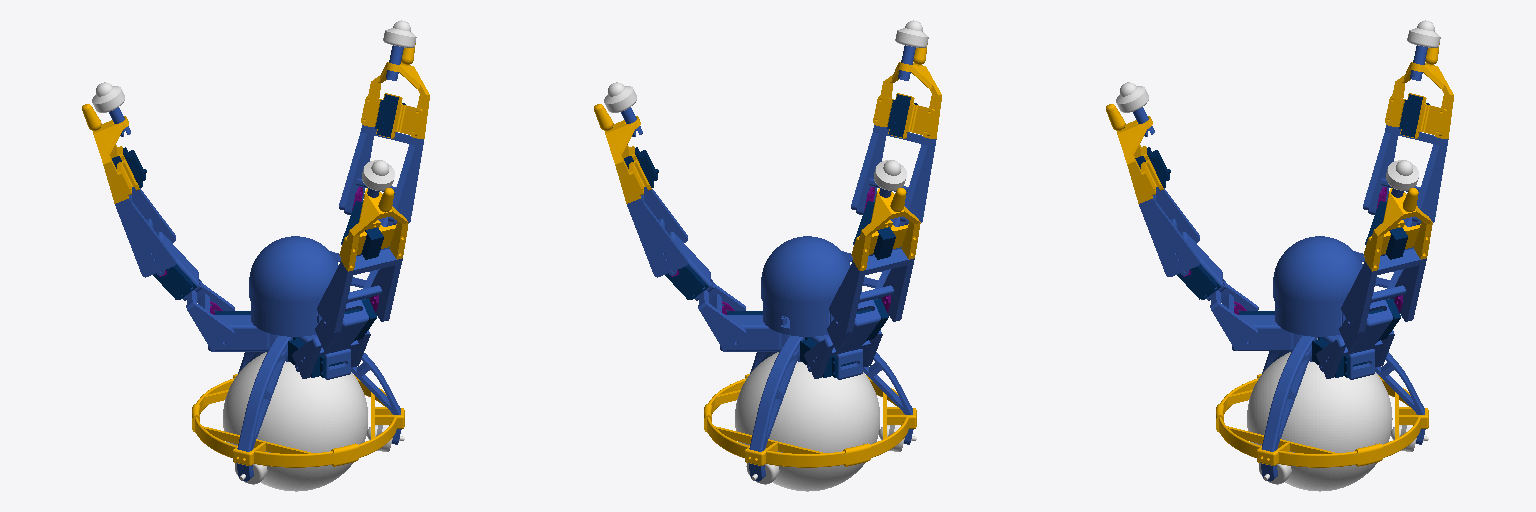
--- Render facts (derived) ---
Views: 3 orthographic renders of the robot side by side, from view 1: azimuth 30°, elevation 25°; view 2: azimuth 150°, elevation 25°; view 3: azimuth 270°, elevation 25°.
Model skootr with 63 links and 62 joints (6 revolute, 3 continuous, 3 prismatic, 49 fixed, 1 floating), rooted at ball_root, posed every joint at zero.
Links seen in each view (by area): view 1: hemisphere_top, lid, leg2_link2_p1, leg3_link2_p1, leg1_link2_p1, third_ring, first_triconstraint, hemisphere_bottom, leg2_link2_p2, leg3_link1, third_servo_mount, electronics_platform (+14 smaller); view 2: hemisphere_top, lid, leg3_link2_p1, leg1_link2_p1, leg2_link2_p1, second_ring, third_triconstraint, hemisphere_bottom, leg3_link2_p2, leg1_link1, first_servo_mount, electronics_platform (+14 smaller); view 3: hemisphere_top, lid, leg1_link2_p1, leg2_link2_p1, leg3_link2_p1, first_ring, second_triconstraint, hemisphere_bottom, leg1_link2_p2, leg2_link1, electronics_platform, leg2_link2_p2 (+14 smaller).
Link boxes in pixels (x1,y1,x2,y2): hemisphere_top: (223, 352, 367, 448); lid: (249, 236, 338, 315); leg2_link2_p1: (317, 249, 402, 333); leg3_link2_p1: (115, 187, 175, 277); leg1_link2_p1: (339, 125, 423, 224); third_ring: (195, 417, 333, 467); first_triconstraint: (237, 335, 292, 481); hemisphere_bottom: (223, 423, 367, 491); leg2_link2_p2: (341, 188, 408, 271); leg3_link1: (186, 284, 234, 350); third_servo_mount: (208, 315, 277, 351); electronics_platform: (251, 302, 321, 336); hemisphere_top: (735, 352, 879, 448); lid: (761, 236, 850, 315); leg3_link2_p1: (829, 249, 914, 333); leg1_link2_p1: (627, 187, 687, 277); leg2_link2_p1: (851, 125, 936, 224); second_ring: (707, 417, 845, 467); third_triconstraint: (749, 335, 804, 481); hemisphere_bottom: (735, 423, 879, 491); leg3_link2_p2: (853, 188, 920, 270); leg1_link1: (698, 284, 745, 350); first_servo_mount: (720, 315, 789, 351); electronics_platform: (763, 302, 833, 336); hemisphere_top: (1247, 352, 1392, 448); lid: (1273, 236, 1362, 315); leg1_link2_p1: (1341, 248, 1426, 333); leg2_link2_p1: (1139, 187, 1199, 276); leg3_link2_p1: (1363, 125, 1448, 224); first_ring: (1219, 417, 1357, 467); second_triconstraint: (1261, 335, 1317, 481); hemisphere_bottom: (1247, 419, 1392, 491); leg1_link2_p2: (1365, 188, 1432, 271); leg2_link1: (1210, 284, 1258, 350); electronics_platform: (1275, 302, 1345, 336); leg2_link2_p2: (1117, 116, 1152, 203).
Bounding box of the posed robot: 0.511 × 0.4789 × 0.6004 m (x, y, z).
62 mesh visuals loaded from 21 distinct referenced files (21 binary STL).

URDF robot description (skootr):
<?xml version="1.0" ?>
<!-- =================================================================================== -->
<!-- |    This document was autogenerated by xacro from ./src/skootr_description/urdf/skootr.xacro | -->
<!-- |    EDITING THIS FILE BY HAND IS NOT RECOMMENDED                                 | -->
<!-- =================================================================================== -->
<robot name="skootr">
  <!-- Declare colors -->
  <material name="skootr_blue">
    <color rgba="0.231 0.380 0.706 1.0"/>
  </material>
  <material name="skootr_yellow">
    <color rgba="0.980 0.714 0.004 1.0"/>
  </material>
  <material name="skootr_silver">
    <color rgba="0.9176 0.9176 0.9176 1.0"/>
  </material>
  <material name="servo_blue">
    <color rgba="0.043 0.216 0.404 1.0"/>
  </material>
  <material name="horn_purple">
    <color rgba="0.490 0.086 0.557 1.0"/>
  </material>
  <link name="ball_root">
    <origin rpy="0.0 0.0 0.0" xyz="0.0 0.0 0.0"/>
    <inertial>
      <origin xyz="0.0 0.0 0.0" rpy="0.0 0.0 0.0"/>
      <mass value="0.00001"/>
      <inertia ixx="0.0" ixy="0.0" ixz="0.0" iyy="0.0" iyz="0.0" izz="0.0"/>
    </inertial>
    
  </link>
  <link name="ball_connector">
    <visual>
      <geometry>
        <mesh filename="meshes/frame/hemisphere_connector.stl" scale="0.001 0.001 0.001"/>
      </geometry>
    </visual>
    <collision>
      <geometry>
        <mesh filename="meshes/frame/hemisphere_connector.stl" scale="0.001 0.001 0.001"/>
      </geometry>
    </collision>
    <inertial>
      <origin rpy="0 0 0" xyz="0 0 0"/>
      <mass value="0.09480"/>
      <inertia ixx="2.64e-05" ixy="0" ixz="0" iyy="2.93e-05" iyz="0" izz="2.64e-05"/>
    </inertial>
  </link>
  <!-- joining ball_connector to dummy link -->
  <joint name="root_to_connector" type="floating">
    <origin rpy="1.5707963267948966 0 0" xyz="0 0 0.0194945"/>
    <parent link="ball_root"/>
    <child link="ball_connector"/>
    <!-- <axis xyz="1.0 1.0 1.0"/> -->
  </joint>
  <!-- top hemisphere -->
  <link name="hemisphere_top">
    <visual>
      <geometry>
        <mesh filename="meshes/frame/hemisphere.stl" scale="0.001 0.001 0.001"/>
      </geometry>
      <material name="skootr_silver"/>
    </visual>
    <collision>
      <geometry>
        <mesh filename="meshes/frame/hemisphere.stl" scale="0.001 0.001 0.001"/>
      </geometry>
    </collision>
    <inertial>
      <origin rpy="0 0 0" xyz="0 0.038176 0"/>
      <mass value="10.5179"/>
      <inertia ixx="0.0067228" ixy="0" ixz="0" iyy="0.0104325" iyz="0" izz="0.0067210"/>
    </inertial>
  </link>
  <link name="hemisphere_bottom">
    <visual>
      <geometry>
        <mesh filename="meshes/frame/hemisphere.stl" scale="0.001 0.001 0.001"/>
      </geometry>
      <material name="skootr_silver"/>
    </visual>
    <collision>
      <geometry>
        <mesh filename="meshes/frame/hemisphere.stl" scale="0.001 0.001 0.001"/>
      </geometry>
    </collision>
    <inertial>
      <origin rpy="0 0 0" xyz="0 0.038176 0"/>
      <mass value="10.5179"/>
      <inertia ixx="0.0067228" ixy="0" ixz="0" iyy="0.0104325" iyz="0" izz="0.0067210"/>
    </inertial>
  </link>
  <joint name="connector_to_top" type="fixed">
    <parent link="ball_connector"/>
    <child link="hemisphere_top"/>
    <origin rpy="0 0 0" xyz="0 -0.0195 0"/>
  </joint>
  <joint name="connector_to_bottom" type="fixed">
    <parent link="ball_connector"/>
    <child link="hemisphere_bottom"/>
    <origin rpy="3.14159265 0 0" xyz="0 -0.0195 0"/>
  </joint>
  <!-- ring constraint -->
  <link name="first_ring" type="fixed">
    <visual>
      <geometry>
        <mesh filename="meshes/frame/ringconstraint.stl" scale="0.001 0.001 0.001"/>
      </geometry>
      <material name="skootr_yellow"/>
    </visual>
    <collision>
      <geometry>
        <mesh filename="meshes/frame/ringconstraint.stl" scale="0.001 0.001 0.001"/>
      </geometry>
    </collision>
    <inertial>
      <origin rpy="0 0 0" xyz="0.09911 -0.05723 0.01130"/>
      <mass value="0.05080"/>
      <inertia ixx="1.62e-04" ixy="-8.22e-05" ixz="2.93e-07" iyy="6.64e-05" iyz="-2.93e-07" izz="2.25e-04"/>
    </inertial>
  </link>
  <link name="first_constraint_connector" type="fixed">
    <visual>
      <geometry>
        <mesh filename="meshes/frame/ringconstraint_connector.stl" scale="0.001 0.001 0.001"/>
      </geometry>
      <material name="skootr_yellow"/>
    </visual>
    <collision>
      <geometry>
        <mesh filename="meshes/frame/ringconstraint_connector.stl" scale="0.001 0.001 0.001"/>
      </geometry>
    </collision>
    <inertial>
      <origin rpy="0 0 0" xyz="0.1193 0.0678 0.0100"/>
      <mass value="0.00816"/>
      <!-- Converted from 0.018 lb to kg -->
      <inertia ixx="1.1663e-07" ixy="2.9155e-08" ixz="5.5703e-15" iyy="8.7475e-08" iyz="-6.9847e-15" izz="8.7475e-08"/>
    </inertial>
  </link>
  <link name="first_triconstraint" type="fixed">
    <visual>
      <geometry>
        <mesh filename="meshes/frame/triconstraint.stl" scale="0.001 0.001 0.001"/>
      </geometry>
      <material name="skootr_blue"/>
    </visual>
    <collision>
      <geometry>
        <mesh filename="meshes/frame/triconstraint.stl" scale="0.001 0.001 0.001"/>
      </geometry>
    </collision>
    <inertial>
      <origin rpy="0 0 0" xyz="-92.433 -4.332e-5 66.87"/>
      <mass value="0.06304"/>
      <!-- Converted from 0.139 lb to kg -->
      <inertia ixx="1.4480e-05" ixy="-7.4132e-10" ixz="-1.1539e-05" iyy="2.8523e-05" iyz="-8.5296e-10" izz="1.1518e-05"/>
    </inertial>
  </link>
  <link name="second_ring" type="fixed">
    <visual>
      <geometry>
        <mesh filename="meshes/frame/ringconstraint.stl" scale="0.001 0.001 0.001"/>
      </geometry>
      <material name="skootr_yellow"/>
    </visual>
    <collision>
      <geometry>
        <mesh filename="meshes/frame/ringconstraint.stl" scale="0.001 0.001 0.001"/>
      </geometry>
    </collision>
    <inertial>
      <origin rpy="0 0 0" xyz="0.09911 -0.05723 0.01130"/>
      <mass value="0.05080"/>
      <inertia ixx="1.62e-04" ixy="-8.22e-05" ixz="2.93e-07" iyy="6.64e-05" iyz="-2.93e-07" izz="2.25e-04"/>
    </inertial>
  </link>
  <link name="second_constraint_connector" type="fixed">
    <visual>
      <geometry>
        <mesh filename="meshes/frame/ringconstraint_connector.stl" scale="0.001 0.001 0.001"/>
      </geometry>
      <material name="skootr_yellow"/>
    </visual>
    <collision>
      <geometry>
        <mesh filename="meshes/frame/ringconstraint_connector.stl" scale="0.001 0.001 0.001"/>
      </geometry>
    </collision>
    <inertial>
      <origin rpy="0 0 0" xyz="0.1193 0.0678 0.0100"/>
      <mass value="0.00816"/>
      <!-- Converted from 0.018 lb to kg -->
      <inertia ixx="1.1663e-07" ixy="2.9155e-08" ixz="5.5703e-15" iyy="8.7475e-08" iyz="-6.9847e-15" izz="8.7475e-08"/>
    </inertial>
  </link>
  <link name="second_triconstraint" type="fixed">
    <visual>
      <geometry>
        <mesh filename="meshes/frame/triconstraint.stl" scale="0.001 0.001 0.001"/>
      </geometry>
      <material name="skootr_blue"/>
    </visual>
    <collision>
      <geometry>
        <mesh filename="meshes/frame/triconstraint.stl" scale="0.001 0.001 0.001"/>
      </geometry>
    </collision>
    <inertial>
      <origin rpy="0 0 0" xyz="-92.433 -4.332e-5 66.87"/>
      <mass value="0.06304"/>
      <!-- Converted from 0.139 lb to kg -->
      <inertia ixx="1.4480e-05" ixy="-7.4132e-10" ixz="-1.1539e-05" iyy="2.8523e-05" iyz="-8.5296e-10" izz="1.1518e-05"/>
    </inertial>
  </link>
  <link name="third_ring" type="fixed">
    <visual>
      <geometry>
        <mesh filename="meshes/frame/ringconstraint.stl" scale="0.001 0.001 0.001"/>
      </geometry>
      <material name="skootr_yellow"/>
    </visual>
    <collision>
      <geometry>
        <mesh filename="meshes/frame/ringconstraint.stl" scale="0.001 0.001 0.001"/>
      </geometry>
    </collision>
    <inertial>
      <origin rpy="0 0 0" xyz="0.09911 -0.05723 0.01130"/>
      <mass value="0.05080"/>
      <inertia ixx="1.62e-04" ixy="-8.22e-05" ixz="2.93e-07" iyy="6.64e-05" iyz="-2.93e-07" izz="2.25e-04"/>
    </inertial>
  </link>
  <link name="third_constraint_connector" type="fixed">
    <visual>
      <geometry>
        <mesh filename="meshes/frame/ringconstraint_connector.stl" scale="0.001 0.001 0.001"/>
      </geometry>
      <material name="skootr_yellow"/>
    </visual>
    <collision>
      <geometry>
        <mesh filename="meshes/frame/ringconstraint_connector.stl" scale="0.001 0.001 0.001"/>
      </geometry>
    </collision>
    <inertial>
      <origin rpy="0 0 0" xyz="0.1193 0.0678 0.0100"/>
      <mass value="0.00816"/>
      <!-- Converted from 0.018 lb to kg -->
      <inertia ixx="1.1663e-07" ixy="2.9155e-08" ixz="5.5703e-15" iyy="8.7475e-08" iyz="-6.9847e-15" izz="8.7475e-08"/>
    </inertial>
  </link>
  <link name="third_triconstraint" type="fixed">
    <visual>
      <geometry>
        <mesh filename="meshes/frame/triconstraint.stl" scale="0.001 0.001 0.001"/>
      </geometry>
      <material name="skootr_blue"/>
    </visual>
    <collision>
      <geometry>
        <mesh filename="meshes/frame/triconstraint.stl" scale="0.001 0.001 0.001"/>
      </geometry>
    </collision>
    <inertial>
      <origin rpy="0 0 0" xyz="-92.433 -4.332e-5 66.87"/>
      <mass value="0.06304"/>
      <!-- Converted from 0.139 lb to kg -->
      <inertia ixx="1.4480e-05" ixy="-7.4132e-10" ixz="-1.1539e-05" iyy="2.8523e-05" iyz="-8.5296e-10" izz="1.1518e-05"/>
    </inertial>
  </link>
  <link name="triconstraint_hub" type="fixed">
    <visual>
      <geometry>
        <mesh filename="meshes/frame/triconstraint_hub.stl" scale="0.001 0.001 0.001"/>
      </geometry>
      <material name="skootr_blue"/>
    </visual>
    <collision>
      <geometry>
        <mesh filename="meshes/frame/triconstraint_hub.stl" scale="0.001 0.001 0.001"/>
      </geometry>
    </collision>
    <inertial>
      <origin rpy="0 0 0" xyz="-5.567e-6 4.586e-6 0.147149"/>
      <mass value="0.02812"/>
      <!-- Converted from 0.062 lb to kg -->
      <inertia ixx="6.5828e-06" ixy="1.6232e-09" ixz="-1.0979e-09" iyy="6.5828e-06" iyz="8.1455e-10" izz="1.3122e-05"/>
    </inertial>
  </link>
  <joint name="first_ring_to_ball" type="fixed">
    <origin rpy="0.0 0.0 0.0" xyz="0.0 0.0 -0.00975"/>
    <parent link="ball_root"/>
    <child link="first_ring"/>
  </joint>
  <joint name="first_ring_to_connector" type="fixed">
    <origin rpy="0.0 0.0 0.0" xyz="0.0 0.0 -0.00975"/>
    <parent link="ball_root"/>
    <child link="first_constraint_connector"/>
  </joint>
  <joint name="first_triconstraint_to_connector" type="fixed">
    <origin rpy="0.0 0.0 0.5235987755982988" xyz="0.0 0.0 0.00975"/>
    <parent link="first_ring"/>
    <child link="first_triconstraint"/>
  </joint>
  <joint name="second_ring_to_ball" type="fixed">
    <origin rpy="0.0 0.0 2.0943951023931953" xyz="0.0 0.0 -0.00975"/>
    <parent link="ball_root"/>
    <child link="second_ring"/>
  </joint>
  <joint name="second_ring_to_connector" type="fixed">
    <origin rpy="0.0 0.0 2.0943951023931953" xyz="0.0 0.0 -0.00975"/>
    <parent link="ball_root"/>
    <child link="second_constraint_connector"/>
  </joint>
  <joint name="second_triconstraint_to_connector" type="fixed">
    <origin rpy="0.0 0.0 0.5235987755982988" xyz="0.0 0.0 0.00975"/>
    <parent link="second_ring"/>
    <child link="second_triconstraint"/>
  </joint>
  <joint name="third_ring_to_ball" type="fixed">
    <origin rpy="0.0 0.0 4.1887902047863905" xyz="0.0 0.0 -0.00975"/>
    <parent link="ball_root"/>
    <child link="third_ring"/>
  </joint>
  <joint name="third_ring_to_connector" type="fixed">
    <origin rpy="0.0 0.0 4.1887902047863905" xyz="0.0 0.0 -0.00975"/>
    <parent link="ball_root"/>
    <child link="third_constraint_connector"/>
  </joint>
  <joint name="third_triconstraint_to_connector" type="fixed">
    <origin rpy="0.0 0.0 0.5235987755982988" xyz="0.0 0.0 0.00975"/>
    <parent link="third_ring"/>
    <child link="third_triconstraint"/>
  </joint>
  <joint name="triconstraints_to_hub" type="fixed">
    <origin rpy="0.0 0.0 0.5235987755982988" xyz="0.0 0.0 0.0"/>
    <parent link="ball_root"/>
    <child link="triconstraint_hub"/>
  </joint>
  <link name="metal_bearing">
    <visual>
      <geometry>
        <mesh filename="meshes/non_printed/metal_bearing.stl" scale="0.001 0.001 0.001"/>
      </geometry>
      <material name="skootr_silver"/>
    </visual>
    <collision>
      <geometry>
        <mesh filename="meshes/non_printed/metal_bearing.stl" scale="0.001 0.001 0.001"/>
      </geometry>
    </collision>
    <inertial>
      <origin rpy="0 0 0" xyz="0 0.01198 0"/>
      <mass value="0.0957"/>
      <!-- Converted from 0.211 lb to kg -->
      <inertia ixx="1.629e-05" ixy="0" ixz="0" iyy="1.979e-05" iyz="0" izz="1.629e-05"/>
    </inertial>
  </link>
  <link name="first_metal_bearing">
    <visual>
      <geometry>
        <mesh filename="meshes/non_printed/metal_bearing.stl" scale="0.001 0.001 0.001"/>
      </geometry>
      <material name="skootr_silver"/>
    </visual>
    <collision>
      <geometry>
        <mesh filename="meshes/non_printed/metal_bearing.stl" scale="0.001 0.001 0.001"/>
      </geometry>
    </collision>
    <inertial>
      <origin rpy="0 0 0" xyz="0 0.01198 0"/>
      <mass value="0.0957"/>
      <!-- Converted from 0.211 lb to kg -->
      <inertia ixx="1.629e-05" ixy="0" ixz="0" iyy="1.979e-05" iyz="0" izz="1.629e-05"/>
    </inertial>
  </link>
  <link name="second_metal_bearing">
    <visual>
      <geometry>
        <mesh filename="meshes/non_printed/metal_bearing.stl" scale="0.001 0.001 0.001"/>
      </geometry>
      <material name="skootr_silver"/>
    </visual>
    <collision>
      <geometry>
        <mesh filename="meshes/non_printed/metal_bearing.stl" scale="0.001 0.001 0.001"/>
      </geometry>
    </collision>
    <inertial>
      <origin rpy="0 0 0" xyz="0 0.01198 0"/>
      <mass value="0.0957"/>
      <!-- Converted from 0.211 lb to kg -->
      <inertia ixx="1.629e-05" ixy="0" ixz="0" iyy="1.979e-05" iyz="0" izz="1.629e-05"/>
    </inertial>
  </link>
  <link name="third_metal_bearing">
    <visual>
      <geometry>
        <mesh filename="meshes/non_printed/metal_bearing.stl" scale="0.001 0.001 0.001"/>
      </geometry>
      <material name="skootr_silver"/>
    </visual>
    <collision>
      <geometry>
        <mesh filename="meshes/non_printed/metal_bearing.stl" scale="0.001 0.001 0.001"/>
      </geometry>
    </collision>
    <inertial>
      <origin rpy="0 0 0" xyz="0 0.01198 0"/>
      <mass value="0.0957"/>
      <!-- Converted from 0.211 lb to kg -->
      <inertia ixx="1.629e-05" ixy="0" ixz="0" iyy="1.979e-05" iyz="0" izz="1.629e-05"/>
    </inertial>
  </link>
  <link name="servo_hub_bottom" type="fixed">
    <visual>
      <geometry>
        <mesh filename="meshes/frame/servo_hub_bottom.stl" scale="0.001 0.001 0.001"/>
      </geometry>
      <material name="skootr_blue"/>
    </visual>
    <collision>
      <geometry>
        <mesh filename="meshes/frame/servo_hub_bottom.stl" scale="0.001 0.001 0.001"/>
      </geometry>
    </collision>
    <inertial>
      <origin rpy="0 0 0" xyz="0 0 0.005"/>
      <mass value="0.03447"/>
      <!-- Converted from 0.076 lb to kg -->
      <inertia ixx="1.858e-05" ixy="0" ixz="0" iyy="1.858e-05" iyz="0" izz="3.690e-05"/>
    </inertial>
  </link>
  <joint name="hub_to_bearing" type="fixed">
    <origin rpy="-1.5707963267948966 0.0 0.0" xyz="0.0 0.0 0.138835"/>
    <parent link="triconstraint_hub"/>
    <child link="metal_bearing"/>
  </joint>
  <joint name="first_triconstraint_to_bearing" type="fixed">
    <origin rpy="0.20 0.0 -1.5707963267948966" xyz="-0.1322 0.0 -0.0274574"/>
    <parent link="first_triconstraint"/>
    <child link="first_metal_bearing"/>
  </joint>
  <joint name="second_triconstraint_to_bearing" type="fixed">
    <origin rpy="0.20 0.0 -1.5707963267948966" xyz="-0.1322 0.0 -0.0274574"/>
    <parent link="second_triconstraint"/>
    <child link="second_metal_bearing"/>
  </joint>
  <joint name="third_triconstraint_to_bearing" type="fixed">
    <origin rpy="0.20 0.0 -1.5707963267948966" xyz="-0.1322 0.0 -0.0274574"/>
    <parent link="third_triconstraint"/>
    <child link="third_metal_bearing"/>
  </joint>
  <joint name="triconstraint_to_bottomhubs" type="fixed">
    <origin rpy="0.0 0.0 0.0" xyz="0.0 0.0 0.103912"/>
    <parent link="first_triconstraint"/>
    <child link="servo_hub_bottom"/>
  </joint>
  <!-- Servo -->
  <link name="first_servo">
    <visual>
      <geometry>
        <mesh filename="meshes/non_printed/60_kg_servo.stl" scale="0.001 0.001 0.001"/>
      </geometry>
      <material name="servo_blue"/>
    </visual>
    <collision>
      <geometry>
        <mesh filename="meshes/non_printed/60_kg_servo.stl" scale="0.001 0.001 0.001"/>
      </geometry>
    </collision>
    <inertial>
      <origin rpy="0 0 0" xyz="2.7e-5 0 2.02e-4"/>
      <mass value="0.2577"/>
      <!-- Converted from 0.568 lb to kg -->
      <inertia ixx="6.3523e-05" ixy="0" ixz="-1.7854e-07" iyy="1.3415e-04" iyz="0" izz="1.1411e-04"/>
    </inertial>
  </link>
  <link name="second_servo">
    <visual>
      <geometry>
        <mesh filename="meshes/non_printed/60_kg_servo.stl" scale="0.001 0.001 0.001"/>
      </geometry>
      <material name="servo_blue"/>
    </visual>
    <collision>
      <geometry>
        <mesh filename="meshes/non_printed/60_kg_servo.stl" scale="0.001 0.001 0.001"/>
      </geometry>
    </collision>
    <inertial>
      <origin rpy="0 0 0" xyz="2.7e-5 0 2.02e-4"/>
      <mass value="0.2577"/>
      <!-- Converted from 0.568 lb to kg -->
      <inertia ixx="6.3523e-05" ixy="0" ixz="-1.7854e-07" iyy="1.3415e-04" iyz="0" izz="1.1411e-04"/>
    </inertial>
  </link>
  <link name="third_servo">
    <visual>
      <geometry>
        <mesh filename="meshes/non_printed/60_kg_servo.stl" scale="0.001 0.001 0.001"/>
      </geometry>
      <material name="servo_blue"/>
    </visual>
    <collision>
      <geometry>
        <mesh filename="meshes/non_printed/60_kg_servo.stl" scale="0.001 0.001 0.001"/>
      </geometry>
    </collision>
    <inertial>
      <origin rpy="0 0 0" xyz="2.7e-5 0 2.02e-4"/>
      <mass value="0.2577"/>
      <!-- Converted from 0.568 lb to kg -->
      <inertia ixx="6.3523e-05" ixy="0" ixz="-1.7854e-07" iyy="1.3415e-04" iyz="0" izz="1.1411e-04"/>
    </inertial>
  </link>
  <link name="first_servo_mount">
    <visual>
      <geometry>
        <mesh filename="meshes/frame/servo_mount_60kg.stl" scale="0.001 0.001 0.001"/>
      </geometry>
      <material name="skootr_blue"/>
    </visual>
    <collision>
      <geometry>
        <mesh filename="meshes/frame/servo_mount_60kg.stl" scale="0.001 0.001 0.001"/>
      </geometry>
    </collision>
    <inertial>
      <origin rpy="0 0 0" xyz="-9.261e-7 -0.004547 0.010341"/>
      <mass value="0.0893"/>
      <!-- Converted from 0.197 lb to kg -->
      <inertia ixx="8.5327e-05" ixy="2.9828e-08" ixz="-1.0904e-08" iyy="2.7098e-05" iyz="1.4128e-06" izz="8.8359e-05"/>
    </inertial>
  </link>
  <link name="second_servo_mount">
    <visual>
      <geometry>
        <mesh filename="meshes/frame/servo_mount_60kg.stl" scale="0.001 0.001 0.001"/>
      </geometry>
      <material name="skootr_blue"/>
    </visual>
    <collision>
      <geometry>
        <mesh filename="meshes/frame/servo_mount_60kg.stl" scale="0.001 0.001 0.001"/>
      </geometry>
    </collision>
    <inertial>
      <origin rpy="0 0 0" xyz="-9.261e-7 -0.004547 0.010341"/>
      <mass value="0.0893"/>
      <!-- Converted from 0.197 lb to kg -->
      <inertia ixx="8.5327e-05" ixy="2.9828e-08" ixz="-1.0904e-08" iyy="2.7098e-05" iyz="1.4128e-06" izz="8.8359e-05"/>
    </inertial>
  </link>
  <link name="third_servo_mount">
    <visual>
      <geometry>
        <mesh filename="meshes/frame/servo_mount_60kg.stl" scale="0.001 0.001 0.001"/>
      </geometry>
      <material name="skootr_blue"/>
    </visual>
    <collision>
      <geometry>
        <mesh filename="meshes/frame/servo_mount_60kg.stl" scale="0.001 0.001 0.001"/>
      </geometry>
    </collision>
    <inertial>
      <origin rpy="0 0 0" xyz="-9.261e-7 -0.004547 0.010341"/>
      <mass value="0.0893"/>
      <!-- Converted from 0.197 lb to kg -->
      <inertia ixx="8.5327e-05" ixy="2.9828e-08" ixz="-1.0904e-08" iyy="2.7098e-05" iyz="1.4128e-06" izz="8.8359e-05"/>
    </inertial>
  </link>
  <joint name="first_servo_to_slot" type="fixed">
    <origin rpy="0.0 0.0 1.5707963267948966" xyz="0.0 0.0 0.0278"/>
    <parent link="first_servo_mount"/>
    <child link="first_servo"/>
  </joint>
  <joint name="second_servo_to_slot" type="fixed">
    <origin rpy="0.0 0.0 1.5707963267948966" xyz="0.0 0.0 0.0278"/>
    <parent link="second_servo_mount"/>
    <child link="second_servo"/>
  </joint>
  <joint name="third_servo_to_slot" type="fixed">
    <origin rpy="0.0 0.0 1.5707963267948966" xyz="0.0 0.0 0.0278"/>
    <parent link="third_servo_mount"/>
    <child link="third_servo"/>
  </joint>
  <joint name="first_servo_to_hub" type="fixed">
    <origin rpy="0.0 1.5707963267948966 -1.5707963267948966" xyz="0.078 0.014 0.026"/>
    <parent link="servo_hub_bottom"/>
    <child link="first_servo_mount"/>
  </joint>
  <joint name="second_servo_to_hub" type="fixed">
    <origin rpy="0.0 1.5707963267948966 2.617993877991494" xyz="-0.027 -0.0745 0.026"/>
    <parent link="servo_hub_bottom"/>
    <child link="second_servo_mount"/>
  </joint>
  <joint name="third_servo_to_hub" type="fixed">
    <origin rpy="0.0 1.5707963267948966 0.5235987755982989" xyz="-0.051 0.0605 0.026"/>
    <parent link="servo_hub_bottom"/>
    <child link="third_servo_mount"/>
  </joint>
  <!-- connecting with legs, adding horn -->
  <link name="first_servo_horn">
    <visual>
      <geometry>
        <mesh filename="meshes/non_printed/18T_servo_horn.stl" scale="0.001 0.001 0.001"/>
      </geometry>
      <material name="horn_purple"/>
    </visual>
    <collision>
      <geometry>
        <mesh filename="meshes/non_printed/18T_servo_horn.stl" scale="0.001 0.001 0.001"/>
      </geometry>
    </collision>
    <inertial>
      <origin rpy="0 0 0" xyz="0 -0.0105 0.002"/>
      <mass value="0.0059"/>
      <!-- Converted from 0.013 lb to kg -->
      <inertia ixx="8.7107e-07" ixy="0" ixz="0" iyy="1.0047e-07" iyz="0" izz="8.7107e-07"/>
    </inertial>
  </link>
  <link name="second_servo_horn">
    <visual>
      <geometry>
        <mesh filename="meshes/non_printed/18T_servo_horn.stl" scale="0.001 0.001 0.001"/>
      </geometry>
      <material name="horn_purple"/>
    </visual>
    <collision>
      <geometry>
        <mesh filename="meshes/non_printed/18T_servo_horn.stl" scale="0.001 0.001 0.001"/>
      </geometry>
    </collision>
    <inertial>
      <origin rpy="0 0 0" xyz="0 -0.0105 0.002"/>
      <mass value="0.0059"/>
      <!-- Converted from 0.013 lb to kg -->
      <inertia ixx="8.7107e-07" ixy="0" ixz="0" iyy="1.0047e-07" iyz="0" izz="8.7107e-07"/>
    </inertial>
  </link>
  <link name="third_servo_horn">
    <visual>
      <geometry>
        <mesh filename="meshes/non_printed/18T_servo_horn.stl" scale="0.001 0.001 0.001"/>
      </geometry>
      <material name="horn_purple"/>
    </visual>
    <collision>
      <geometry>
        <mesh filename="meshes/non_printed/18T_servo_horn.stl" scale="0.001 0.001 0.001"/>
      </geometry>
    </collision>
    <inertial>
      <origin rpy="0 0 0" xyz="0 -0.0105 0.002"/>
      <mass value="0.0059"/>
      <!-- Converted from 0.013 lb to kg -->
      <inertia ixx="8.7107e-07" ixy="0" ixz="0" iyy="1.0047e-07" iyz="0" izz="8.7107e-07"/>
    </inertial>
  </link>
  <joint name="first_servo_to_horn" type="revolute">
    <origin rpy="0 0 2.4434609527948967" xyz="0.019 -0.0 0.0245"/>
    <axis xyz="0 0 -1"/>
    <parent link="first_servo"/>
    <child link="first_servo_horn"/>
    <limit effort="1000" lower="-0" upper="1.187" velocity="1"/>
  </joint>
  <joint name="second_servo_to_horn" type="revolute">
    <origin rpy="0 0 2.4434609527948967" xyz="0.019 -0.0 0.0245"/>
    <axis xyz="0 0 -1"/>
    <parent link="second_servo"/>
    <child link="second_servo_horn"/>
    <limit effort="1000" lower="-0" upper="1.187" velocity="1"/>
  </joint>
  <joint name="third_servo_to_horn" type="revolute">
    <origin rpy="0 0 2.4434609527948967" xyz="0.019 -0.0 0.0245"/>
    <axis xyz="0 0 -1"/>
    <parent link="third_servo"/>
    <child link="third_servo_horn"/>
    <limit effort="1000" lower="-0" upper="1.187" velocity="1"/>
  </joint>
  <!-- electronics -->
  <link name="electronics_platform">
    <visual>
      <geometry>
        <mesh filename="meshes/frame/electronics_platform.stl" scale="0.001 0.001 0.001"/>
      </geometry>
      <material name="skootr_blue"/>
    </visual>
    <collision>
      <geometry>
        <mesh filename="meshes/frame/electronics_platform.stl" scale="0.001 0.001 0.001"/>
      </geometry>
    </collision>
    <inertial>
      <origin rpy="0 0 0" xyz="0.000381 -0.000483 -0.01667"/>
      <mass value="0.0984"/>
      <!-- Converted from 0.217 lb to kg -->
      <inertia ixx="1.859e-04" ixy="2.904e-07" ixz="-1.193e-07" iyy="1.833e-04" iyz="2.904e-07" izz="2.894e-04"/>
    </inertial>
  </link>
  <link name="lid">
    <visual>
      <geometry>
        <mesh filename="meshes/frame/lid.stl" scale="0.001 0.001 0.001"/>
      </geometry>
      <material name="skootr_blue"/>
    </visual>
    <collision>
      <geometry>
        <mesh filename="meshes/frame/lid.stl" scale="0.001 0.001 0.001"/>
      </geometry>
    </collision>
    <inertial>
      <origin rpy="0 0 0" xyz="0 0 -0.021475"/>
      <mass value="0.0821"/>
      <!-- Converted from 0.181 lb to kg -->
      <inertia ixx="1.564e-04" ixy="0" ixz="0" iyy="1.564e-04" iyz="0" izz="2.256e-04"/>
    </inertial>
  </link>
  <joint name="triconstraint_hub_to_electronics_platform" type="fixed">
    <origin rpy="0.0 3.141592653589793 0.5235987755982988" xyz="0.0 -0.0 0.156"/>
    <parent link="triconstraint_hub"/>
    <child link="electronics_platform"/>
  </joint>
  <joint name="electronics_platform_to_lid" type="fixed">
    <origin rpy="0.0 0.0 0.0" xyz="0.0 -0.0 -0.05"/>
    <parent link="electronics_platform"/>
    <child link="lid"/>
  </joint>
  <!-- link2 -->
  <link name="leg1_link2_p1">
    <visual>
      <geometry>
        <mesh filename="meshes/legs/link2p1.stl" scale="0.001 0.001 0.001"/>
      </geometry>
      <material name="leg1_link2_p1_blue">
        <color rgba="0.231 0.380 0.706 1.0"/>
      </material>
    </visual>
    <collision>
      <geometry>
        <mesh filename="meshes/legs/link2p1.stl" scale="0.001 0.001 0.001"/>
      </geometry>
    </collision>
    <inertial>
      <origin rpy="0 0 0" xyz="-0.0621 2.54e-5 0.003429"/>
      <mass value="10.1293"/>
      <!-- Converted from 0.285 lb to kg -->
      <inertia ixx="1.764e-04" ixy="-2.119e-08" ixz="-8.423e-06" iyy="1.867e-04" iyz="-8.423e-09" izz="5.007e-04"/>
    </inertial>
  </link>
  <link name="leg1_link2_p2">
    <visual>
      <geometry>
        <mesh filename="meshes/legs/link2p2.stl" scale="0.001 0.001 0.001"/>
      </geometry>
      <material name="leg1_link2_p2_yellow">
        <color rgba="0.980 0.714 0.004 1.0"/>
      </material>
    </visual>
    <collision>
      <geometry>
        <mesh filename="meshes/legs/link2p2.stl" scale="0.001 0.001 0.001"/>
      </geometry>
    </collision>
    <inertial>
      <origin rpy="0 0 0" xyz="-0.1733 0 0.00907"/>
      <mass value="0.0558"/>
      <!-- Converted from 0.123 lb to kg -->
      <inertia ixx="6.069e-05" ixy="2.948e-13" ixz="1.421e-05" iyy="8.219e-05" iyz="-1.754e-13" izz="1.873e-04"/>
    </inertial>
  </link>
  <link name="leg1_link2_p3">
    <visual>
      <geometry>
        <mesh filename="meshes/legs/link2p3.stl" scale="0.001 0.001 0.001"/>
      </geometry>
      <material name="leg1_link2_p3_yellow">
        <color rgba="0.980 0.714 0.004 1.0"/>
      </material>
    </visual>
    <collision>
      <geometry>
        <mesh filename="meshes/legs/link2p3.stl" scale="0.001 0.001 0.001"/>
      </geometry>
    </collision>
    <inertial>
      <origin rpy="0 0 0" xyz="0 0 -0.017123"/>
      <mass value="0.01089"/>
      <!-- Converted from 0.024 lb to kg -->
      <inertia ixx="1.505e-06" ixy="0" ixz="0" iyy="1.505e-06" iyz="0" izz="3.393e-07"/>
    </inertial>
  </link>
  <joint name="leg1_link2_p1_to_p2" type="fixed">
    <origin rpy="0.0 0.0 0.0" xyz="0.0 0.0 0.0"/>
    <parent link="leg1_link2_p1"/>
    <child link="leg1_link2_p2"/>
  </joint>
  <joint name="leg1_link2_p2_to_p3" type="fixed">
    <origin rpy="0.0 1.5707963267948966 0.0" xyz="-0.220 0.0 0.006"/>
    <parent link="leg1_link2_p2"/>
    <child link="leg1_link2_p3"/>
  </joint>
  <link name="leg1_pusher_servo_mount">
    <visual>
      <geometry>
        <mesh filename="meshes/legs/pusher_servo_mount.stl" scale="0.001 0.001 0.001"/>
      </geometry>
      <material name="leg1_pusher_servo_mount_yellow">
        <color rgba="0.980 0.714 0.004 1.0"/>
      </material>
    </visual>
    <collision>
      <geometry>
        <mesh filename="meshes/legs/pusher_servo_mount.stl" scale="0.001 0.001 0.001"/>
      </geometry>
    </collision>
    <inertial>
      <origin rpy="0 0 0" xyz="0 0 0.00509"/>
      <mass value="0.02676"/>
      <!-- Converted from 0.059 lb to kg -->
      <inertia ixx="4.583e-06" ixy="-2.610e-08" ixz="0" iyy="1.544e-05" iyz="0" izz="1.939e-05"/>
    </inertial>
  </link>
  <joint name="leg1_pusher_servo_mount_to_link2" type="fixed">
    <origin rpy="0.0 0.0 1.5707963267948966" xyz="-0.147 0.0 0.012"/>
    <parent link="leg1_link2_p2"/>
    <child link="leg1_pusher_servo_mount"/>
  </joint>
  <link name="leg1_pusher_servo">
    <visual>
      <geometry>
        <mesh filename="meshes/non_printed/pusher_servo.stl" scale="0.001 0.001 0.001"/>
      </geometry>
      <material name="leg1_pusher_servo_blue">
        <color rgba="0.043 0.216 0.404 1.0"/>
      </material>
    </visual>
    <collision>
      <geometry>
        <mesh filename="meshes/non_printed/pusher_servo.stl" scale="0.001 0.001 0.001"/>
      </geometry>
    </collision>
    <inertial>
      <origin rpy="0 0 0" xyz="2.7e-5 0 2.02e-4"/>
      <mass value="0.2577"/>
      <!-- Converted from 0.568 lb to kg -->
      <inertia ixx="6.3523e-05" ixy="0" ixz="-1.7854e-07" iyy="1.3415e-04" iyz="0" izz="1.1411e-04"/>
    </inertial>
  </link>
  <joint name="leg1_pusher_servo_to_mount" type="fixed">
    <origin rpy="0.0 0.0 -1.5707963267948966" xyz="0.01 -0.0 0.0096"/>
    <parent link="leg1_pusher_servo_mount"/>
    <child link="leg1_pusher_servo"/>
  </joint>
  <!-- link1 -->
  <link name="servo_leg1_link1">
    <visual>
      <geometry>
        <mesh filename="meshes/non_printed/60_kg_servo.stl" scale="0.001 0.001 0.001"/>
      </geometry>
      <material name="servo_leg1_link1_blue">
        <color rgba="0.043 0.216 0.404 1.0"/>
      </material>
    </visual>
    <collision>
      <geometry>
        <mesh filename="meshes/non_printed/60_kg_servo.stl" scale="0.001 0.001 0.001"/>
      </geometry>
    </collision>
    <inertial>
      <origin rpy="0 0 0" xyz="2.7e-5 0 2.02e-4"/>
      <mass value="0.2577"/>
      <!-- Converted from 0.568 lb to kg -->
      <inertia ixx="6.3523e-05" ixy="0" ixz="-1.7854e-07" iyy="1.3415e-04" iyz="0" izz="1.1411e-04"/>
    </inertial>
  </link>
  <link name="servo_mount_leg1_link1">
    <visual>
      <geometry>
        <mesh filename="meshes/legs/servo_mount_slotted_60kg.stl" scale="0.001 0.001 0.001"/>
      </geometry>
      <material name="servo_mount_leg1_link1_blue">
        <color rgba="0.231 0.380 0.706 1.0"/>
      </material>
    </visual>
    <collision>
      <geometry>
        <mesh filename="meshes/legs/servo_mount_slotted_60kg.stl" scale="0.001 0.001 0.001"/>
      </geometry>
    </collision>
    <inertial>
      <origin rpy="0 0 0" xyz="-8.34e-7 -0.003997 0.010335"/>
      <mass value="0.0885"/>
      <!-- Converted from 0.195 lb to kg -->
      <inertia ixx="8.314e-05" ixy="4.975e-08" ixz="4.666e-09" iyy="2.774e-05" iyz="1.256e-06" izz="8.654e-05"/>
    </inertial>
  </link>
  <joint name="leg1_link1_servo_to_mount" type="fixed">
    <origin rpy="0.0 0.0 1.5707963267948966" xyz="0.0 0.0 0.0278"/>
    <parent link="servo_mount_leg1_link1"/>
    <child link="servo_leg1_link1"/>
  </joint>
  <link name="leg1_link1">
    <visual>
      <geometry>
        <mesh filename="meshes/legs/link1.stl" scale="0.001 0.001 0.001"/>
      </geometry>
      <material name="leg1_link1_blue">
        <color rgba="0.231 0.380 0.706 1.0"/>
      </material>
    </visual>
    <collision>
      <geometry>
        <mesh filename="meshes/legs/link1.stl" scale="0.001 0.001 0.001"/>
      </geometry>
    </collision>
    <inertial>
      <origin rpy="0 0 0" xyz="-0.0416 0.000229 0.00599"/>
      <mass value="0.0685"/>
      <!-- Converted from 0.151 lb to kg -->
      <inertia ixx="8.657e-05" ixy="5.807e-07" ixz="-1.833e-13" iyy="3.632e-05" iyz="1.345e-14" izz="1.147e-04"/>
    </inertial>
  </link>
  <joint name="leg1_link1_to_servo" type="fixed">
    <origin rpy="0.0 1.5707963267948966 1.5707963267948966" xyz="-0.123 -0.031 0.0065"/>
    <parent link="leg1_link1"/>
    <child link="servo_mount_leg1_link1"/>
  </joint>

  <link name="leg1_sliding_cylinder">
    <visual>
      <geometry>
        <mesh filename="meshes/legs/sliding_cylinder.stl" scale="0.001 0.001 0.001"/>
      </geometry>
      <material name="leg1_sliding_cylinder_blue">
        <color rgba="0.231 0.380 0.706 1.0"/>
      </material>
    </visual>
    <collision>
      <geometry>
        <mesh filename="meshes/legs/sliding_cylinder.stl" scale="0.001 0.001 0.001"/>
      </geometry>
    </collision>
    <inertial>
      <origin rpy="0 0 0" xyz="1.958e-9 -0.01674 2.54e-5"/>
      <mass value="0.00998"/>
      <!-- Converted from 0.022 lb to kg -->
      <inertia ixx="1.747e-06" ixy="-1.879e-10" ixz="-4.794e-09" iyy="2.903e-07" iyz="-1.288e-09" izz="1.747e-06"/>
    </inertial>
  </link>
  <link name="leg1_wheels">
    <visual>
      <geometry>
        <mesh filename="meshes/non_printed/metal_bearing.stl" scale="0.001 0.001 0.001"/>
      </geometry>
      <material name="leg1_wheels_silver">
        <color rgba="0.9176 0.9176 0.9176 1.0"/>
      </material>
    </visual>
    <collision>
      <geometry>
        <mesh filename="meshes/non_printed/metal_bearing.stl" scale="0.001 0.001 0.001"/>
      </geometry>
    </collision>
    <inertial>
      <origin rpy="0 0 0" xyz="0 0.01198 0"/>
      <mass value="0.0957"/>
      <!-- Converted from 0.211 lb to kg -->
      <inertia ixx="1.629e-05" ixy="0" ixz="0" iyy="1.979e-05" iyz="0" izz="1.629e-05"/>
    </inertial>
  </link>

  <joint name="leg1_cylinder_to_bound" type="prismatic">
    <origin rpy="0.0 0.0 -1.5707963267948966" xyz="-0.205 -0.0 0.039"/>
    <parent link="leg1_link2_p2"/>
    <child link="leg1_sliding_cylinder"/>
    <axis xyz="0.0 1.0 0.0"/>
    <limit effort="1000" lower="-0.2" upper="0.2" velocity="1.0"/>
  </joint>
  <joint name="leg1_cylinder_to_wheels" type="continuous">
    <origin rpy="0 0.0 3.141592653589793" xyz="-0.0 -0.0405 -0.0"/>
    <parent link="leg1_sliding_cylinder"/>
    <child link="leg1_wheels"/>
    <axis   xyz="0 1 0"/>
  </joint>
  <!-- joining link1 and link2 -->
  <link name="leg1_servo_horn">
    <visual>
      <geometry>
        <mesh filename="meshes/non_printed/18T_servo_horn.stl" scale="0.001 0.001 0.001"/>
      </geometry>
      <material name="leg1_servo_horn_purple">
        <color rgba="0.490 0.086 0.557 1.0"/>
      </material>
    </visual>
    <collision>
      <geometry>
        <mesh filename="meshes/non_printed/18T_servo_horn.stl" scale="0.001 0.001 0.001"/>
      </geometry>
    </collision>
    <inertial>
      <origin rpy="0 0 0" xyz="0 -0.0105 0.002"/>
      <mass value="0.0059"/>
      <!-- Converted from 0.013 lb to kg -->
      <inertia ixx="8.7107e-07" ixy="0" ixz="0" iyy="1.0047e-07" iyz="0" izz="8.7107e-07"/>
    </inertial>
  </link>
  <joint name="leg1_link1_to_joint" type="revolute">
    <origin rpy="0 0 1.2915436467948966" xyz="0.019 -0.0 0.0245"/>
    <parent link="servo_leg1_link1"/>
    <child link="leg1_servo_horn"/>
    <axis xyz="0 0 1"/>
    <limit effort="1000" lower="-2.356" upper="2.356" velocity="1"/>
  </joint>
  <joint name="leg1_joint_to_link2" type="fixed">
    <origin rpy="1.5707963267948966 3.141592653589793 -1.5707963267948966" xyz="0.005 0.005 -0.028"/>
    <parent link="leg1_servo_horn"/>
    <child link="leg1_link2_p1"/>
  </joint>
  <!-- joining to the base -->
  <joint name="leg1_link1_to_frame" type="fixed">
    <origin rpy="1.5707963267948966 3.141592653589793 -1.5707963267948966" xyz="0.005 0.005 -0.028"/>
    <parent link="first_servo_horn"/>
    <child link="leg1_link1"/>
  </joint>
  <!-- link2 -->
  <link name="leg2_link2_p1">
    <visual>
      <geometry>
        <mesh filename="meshes/legs/link2p1.stl" scale="0.001 0.001 0.001"/>
      </geometry>
      <material name="leg2_link2_p1_blue">
        <color rgba="0.231 0.380 0.706 1.0"/>
      </material>
    </visual>
    <collision>
      <geometry>
        <mesh filename="meshes/legs/link2p1.stl" scale="0.001 0.001 0.001"/>
      </geometry>
    </collision>
    <inertial>
      <origin rpy="0 0 0" xyz="-0.0621 2.54e-5 0.003429"/>
      <mass value="10.1293"/>
      <!-- Converted from 0.285 lb to kg -->
      <inertia ixx="1.764e-04" ixy="-2.119e-08" ixz="-8.423e-06" iyy="1.867e-04" iyz="-8.423e-09" izz="5.007e-04"/>
    </inertial>
  </link>
  <link name="leg2_link2_p2">
    <visual>
      <geometry>
        <mesh filename="meshes/legs/link2p2.stl" scale="0.001 0.001 0.001"/>
      </geometry>
      <material name="leg2_link2_p2_yellow">
        <color rgba="0.980 0.714 0.004 1.0"/>
      </material>
    </visual>
    <collision>
      <geometry>
        <mesh filename="meshes/legs/link2p2.stl" scale="0.001 0.001 0.001"/>
      </geometry>
    </collision>
    <inertial>
      <origin rpy="0 0 0" xyz="-0.1733 0 0.00907"/>
      <mass value="0.0558"/>
      <!-- Converted from 0.123 lb to kg -->
      <inertia ixx="6.069e-05" ixy="2.948e-13" ixz="1.421e-05" iyy="8.219e-05" iyz="-1.754e-13" izz="1.873e-04"/>
    </inertial>
  </link>
  <link name="leg2_link2_p3">
    <visual>
      <geometry>
        <mesh filename="meshes/legs/link2p3.stl" scale="0.001 0.001 0.001"/>
      </geometry>
      <material name="leg2_link2_p3_yellow">
        <color rgba="0.980 0.714 0.004 1.0"/>
      </material>
    </visual>
    <collision>
      <geometry>
        <mesh filename="meshes/legs/link2p3.stl" scale="0.001 0.001 0.001"/>
      </geometry>
    </collision>
    <inertial>
      <origin rpy="0 0 0" xyz="0 0 -0.017123"/>
      <mass value="0.01089"/>
      <!-- Converted from 0.024 lb to kg -->
      <inertia ixx="1.505e-06" ixy="0" ixz="0" iyy="1.505e-06" iyz="0" izz="3.393e-07"/>
    </inertial>
  </link>
  <joint name="leg2_link2_p1_to_p2" type="fixed">
    <origin rpy="0.0 0.0 0.0" xyz="0.0 0.0 0.0"/>
    <parent link="leg2_link2_p1"/>
    <child link="leg2_link2_p2"/>
  </joint>
  <joint name="leg2_link2_p2_to_p3" type="fixed">
    <origin rpy="0.0 1.5707963267948966 0.0" xyz="-0.220 0.0 0.006"/>
    <parent link="leg2_link2_p2"/>
    <child link="leg2_link2_p3"/>
  </joint>
  <link name="leg2_pusher_servo_mount">
    <visual>
      <geometry>
        <mesh filename="meshes/legs/pusher_servo_mount.stl" scale="0.001 0.001 0.001"/>
      </geometry>
      <material name="leg2_pusher_servo_mount_yellow">
        <color rgba="0.980 0.714 0.004 1.0"/>
      </material>
    </visual>
    <collision>
      <geometry>
        <mesh filename="meshes/legs/pusher_servo_mount.stl" scale="0.001 0.001 0.001"/>
      </geometry>
    </collision>
    <inertial>
      <origin rpy="0 0 0" xyz="0 0 0.00509"/>
      <mass value="0.02676"/>
      <!-- Converted from 0.059 lb to kg -->
      <inertia ixx="4.583e-06" ixy="-2.610e-08" ixz="0" iyy="1.544e-05" iyz="0" izz="1.939e-05"/>
    </inertial>
  </link>
  <joint name="leg2_pusher_servo_mount_to_link2" type="fixed">
    <origin rpy="0.0 0.0 1.5707963267948966" xyz="-0.147 0.0 0.012"/>
    <parent link="leg2_link2_p2"/>
    <child link="leg2_pusher_servo_mount"/>
  </joint>
  <link name="leg2_pusher_servo">
    <visual>
      <geometry>
        <mesh filename="meshes/non_printed/pusher_servo.stl" scale="0.001 0.001 0.001"/>
      </geometry>
      <material name="leg2_pusher_servo_blue">
        <color rgba="0.043 0.216 0.404 1.0"/>
      </material>
    </visual>
    <collision>
      <geometry>
        <mesh filename="meshes/non_printed/pusher_servo.stl" scale="0.001 0.001 0.001"/>
      </geometry>
    </collision>
    <inertial>
      <origin rpy="0 0 0" xyz="2.7e-5 0 2.02e-4"/>
      <mass value="0.2577"/>
      <!-- Converted from 0.568 lb to kg -->
      <inertia ixx="6.3523e-05" ixy="0" ixz="-1.7854e-07" iyy="1.3415e-04" iyz="0" izz="1.1411e-04"/>
    </inertial>
  </link>
  <joint name="leg2_pusher_servo_to_mount" type="fixed">
    <origin rpy="0.0 0.0 -1.5707963267948966" xyz="0.01 -0.0 0.0096"/>
    <parent link="leg2_pusher_servo_mount"/>
    <child link="leg2_pusher_servo"/>
  </joint>
  <!-- link1 -->
  <link name="servo_leg2_link1">
    <visual>
      <geometry>
        <mesh filename="meshes/non_printed/60_kg_servo.stl" scale="0.001 0.001 0.001"/>
      </geometry>
      <material name="servo_leg2_link1_blue">
        <color rgba="0.043 0.216 0.404 1.0"/>
      </material>
    </visual>
    <collision>
      <geometry>
        <mesh filename="meshes/non_printed/60_kg_servo.stl" scale="0.001 0.001 0.001"/>
      </geometry>
    </collision>
    <inertial>
      <origin rpy="0 0 0" xyz="2.7e-5 0 2.02e-4"/>
      <mass value="0.2577"/>
      <!-- Converted from 0.568 lb to kg -->
      <inertia ixx="6.3523e-05" ixy="0" ixz="-1.7854e-07" iyy="1.3415e-04" iyz="0" izz="1.1411e-04"/>
    </inertial>
  </link>
  <link name="servo_mount_leg2_link1">
    <visual>
      <geometry>
        <mesh filename="meshes/legs/servo_mount_slotted_60kg.stl" scale="0.001 0.001 0.001"/>
      </geometry>
      <material name="servo_mount_leg2_link1_blue">
        <color rgba="0.231 0.380 0.706 1.0"/>
      </material>
    </visual>
    <collision>
      <geometry>
        <mesh filename="meshes/legs/servo_mount_slotted_60kg.stl" scale="0.001 0.001 0.001"/>
      </geometry>
    </collision>
    <inertial>
      <origin rpy="0 0 0" xyz="-8.34e-7 -0.003997 0.010335"/>
      <mass value="0.0885"/>
      <!-- Converted from 0.195 lb to kg -->
      <inertia ixx="8.314e-05" ixy="4.975e-08" ixz="4.666e-09" iyy="2.774e-05" iyz="1.256e-06" izz="8.654e-05"/>
    </inertial>
  </link>
  <joint name="leg2_link1_servo_to_mount" type="fixed">
    <origin rpy="0.0 0.0 1.5707963267948966" xyz="0.0 0.0 0.0278"/>
    <parent link="servo_mount_leg2_link1"/>
    <child link="servo_leg2_link1"/>
  </joint>
  <link name="leg2_link1">
    <visual>
      <geometry>
        <mesh filename="meshes/legs/link1.stl" scale="0.001 0.001 0.001"/>
      </geometry>
      <material name="leg2_link1_blue">
        <color rgba="0.231 0.380 0.706 1.0"/>
      </material>
    </visual>
    <collision>
      <geometry>
        <mesh filename="meshes/legs/link1.stl" scale="0.001 0.001 0.001"/>
      </geometry>
    </collision>
    <inertial>
      <origin rpy="0 0 0" xyz="-0.0416 0.000229 0.00599"/>
      <mass value="0.0685"/>
      <!-- Converted from 0.151 lb to kg -->
      <inertia ixx="8.657e-05" ixy="5.807e-07" ixz="-1.833e-13" iyy="3.632e-05" iyz="1.345e-14" izz="1.147e-04"/>
    </inertial>
  </link>
  <joint name="leg2_link1_to_servo" type="fixed">
    <origin rpy="0.0 1.5707963267948966 1.5707963267948966" xyz="-0.123 -0.031 0.0065"/>
    <parent link="leg2_link1"/>
    <child link="servo_mount_leg2_link1"/>
  </joint>

  <link name="leg2_sliding_cylinder">
    <visual>
      <geometry>
        <mesh filename="meshes/legs/sliding_cylinder.stl" scale="0.001 0.001 0.001"/>
      </geometry>
      <material name="leg2_sliding_cylinder_blue">
        <color rgba="0.231 0.380 0.706 1.0"/>
      </material>
    </visual>
    <collision>
      <geometry>
        <mesh filename="meshes/legs/sliding_cylinder.stl" scale="0.001 0.001 0.001"/>
      </geometry>
    </collision>
    <inertial>
      <origin rpy="0 0 0" xyz="1.958e-9 -0.01674 2.54e-5"/>
      <mass value="0.00998"/>
      <!-- Converted from 0.022 lb to kg -->
      <inertia ixx="1.747e-06" ixy="-1.879e-10" ixz="-4.794e-09" iyy="2.903e-07" iyz="-1.288e-09" izz="1.747e-06"/>
    </inertial>
  </link>
  <link name="leg2_wheels">
    <visual>
      <geometry>
        <mesh filename="meshes/non_printed/metal_bearing.stl" scale="0.001 0.001 0.001"/>
      </geometry>
      <material name="leg2_wheels_silver">
        <color rgba="0.9176 0.9176 0.9176 1.0"/>
      </material>
    </visual>
    <collision>
      <geometry>
        <mesh filename="meshes/non_printed/metal_bearing.stl" scale="0.001 0.001 0.001"/>
      </geometry>
    </collision>
    <inertial>
      <origin rpy="0 0 0" xyz="0 0.01198 0"/>
      <mass value="0.0957"/>
      <!-- Converted from 0.211 lb to kg -->
      <inertia ixx="1.629e-05" ixy="0" ixz="0" iyy="1.979e-05" iyz="0" izz="1.629e-05"/>
    </inertial>
  </link>

  <joint name="leg2_cylinder_to_bound" type="prismatic">
    <origin rpy="0.0 0.0 -1.5707963267948966" xyz="-0.205 -0.0 0.039"/>
    <parent link="leg2_link2_p2"/>
    <child link="leg2_sliding_cylinder"/>
    <axis xyz="0.0 1.0 0.0"/>
    <limit effort="1000" lower="-0.2" upper="0.2" velocity="1.0"/>
  </joint>
  <joint name="leg2_cylinder_to_wheels" type="continuous">
    <origin rpy="0 0.0 3.141592653589793" xyz="-0.0 -0.0405 -0.0"/>
    <parent link="leg2_sliding_cylinder"/>
    <child link="leg2_wheels"/>
    <axis xyz="0.0 1.0 0.0"/>
  </joint>
  <!-- joining link1 and link2 -->
  <link name="leg2_servo_horn">
    <visual>
      <geometry>
        <mesh filename="meshes/non_printed/18T_servo_horn.stl" scale="0.001 0.001 0.001"/>
      </geometry>
      <material name="leg2_servo_horn_purple">
        <color rgba="0.490 0.086 0.557 1.0"/>
      </material>
    </visual>
    <collision>
      <geometry>
        <mesh filename="meshes/non_printed/18T_servo_horn.stl" scale="0.001 0.001 0.001"/>
      </geometry>
    </collision>
    <inertial>
      <origin rpy="0 0 0" xyz="0 -0.0105 0.002"/>
      <mass value="0.0059"/>
      <!-- Converted from 0.013 lb to kg -->
      <inertia ixx="8.7107e-07" ixy="0" ixz="0" iyy="1.0047e-07" iyz="0" izz="8.7107e-07"/>
    </inertial>
  </link>
  <joint name="leg2_link1_to_joint" type="revolute">
    <origin rpy="0 0 1.2915436467948966" xyz="0.019 -0.0 0.0245"/>
    <parent link="servo_leg2_link1"/>
    <child link="leg2_servo_horn"/>
    <axis xyz="0 0 1"/>
    <limit effort="1000" lower="-2.356" upper="2.356" velocity="1"/>
  </joint>
  <joint name="leg2_joint_to_link2" type="fixed">
    <origin rpy="1.5707963267948966 3.141592653589793 -1.5707963267948966" xyz="0.005 0.005 -0.028"/>
    <parent link="leg2_servo_horn"/>
    <child link="leg2_link2_p1"/>
  </joint>
  <!-- joining to the base -->
  <joint name="leg2_link1_to_frame" type="fixed">
    <origin rpy="1.5707963267948966 3.141592653589793 -1.5707963267948966" xyz="0.005 0.005 -0.028"/>
    <parent link="second_servo_horn"/>
    <child link="leg2_link1"/>
  </joint>
  <!-- link2 -->
  <link name="leg3_link2_p1">
    <visual>
      <geometry>
        <mesh filename="meshes/legs/link2p1.stl" scale="0.001 0.001 0.001"/>
      </geometry>
      <material name="leg3_link2_p1_blue">
        <color rgba="0.231 0.380 0.706 1.0"/>
      </material>
    </visual>
    <collision>
      <geometry>
        <mesh filename="meshes/legs/link2p1.stl" scale="0.001 0.001 0.001"/>
      </geometry>
    </collision>
    <inertial>
      <origin rpy="0 0 0" xyz="-0.0621 2.54e-5 0.003429"/>
      <mass value="10.1293"/>
      <!-- Converted from 0.285 lb to kg -->
      <inertia ixx="1.764e-04" ixy="-2.119e-08" ixz="-8.423e-06" iyy="1.867e-04" iyz="-8.423e-09" izz="5.007e-04"/>
    </inertial>
  </link>
  <link name="leg3_link2_p2">
    <visual>
      <geometry>
        <mesh filename="meshes/legs/link2p2.stl" scale="0.001 0.001 0.001"/>
      </geometry>
      <material name="leg3_link2_p2_yellow">
        <color rgba="0.980 0.714 0.004 1.0"/>
      </material>
    </visual>
    <collision>
      <geometry>
        <mesh filename="meshes/legs/link2p2.stl" scale="0.001 0.001 0.001"/>
      </geometry>
    </collision>
    <inertial>
      <origin rpy="0 0 0" xyz="-0.1733 0 0.00907"/>
      <mass value="0.0558"/>
      <!-- Converted from 0.123 lb to kg -->
      <inertia ixx="6.069e-05" ixy="2.948e-13" ixz="1.421e-05" iyy="8.219e-05" iyz="-1.754e-13" izz="1.873e-04"/>
    </inertial>
  </link>
  <link name="leg3_link2_p3">
    <visual>
      <geometry>
        <mesh filename="meshes/legs/link2p3.stl" scale="0.001 0.001 0.001"/>
      </geometry>
      <material name="leg3_link2_p3_yellow">
        <color rgba="0.980 0.714 0.004 1.0"/>
      </material>
    </visual>
    <collision>
      <geometry>
        <mesh filename="meshes/legs/link2p3.stl" scale="0.001 0.001 0.001"/>
      </geometry>
    </collision>
    <inertial>
      <origin rpy="0 0 0" xyz="0 0 -0.017123"/>
      <mass value="0.01089"/>
      <!-- Converted from 0.024 lb to kg -->
      <inertia ixx="1.505e-06" ixy="0" ixz="0" iyy="1.505e-06" iyz="0" izz="3.393e-07"/>
    </inertial>
  </link>
  <joint name="leg3_link2_p1_to_p2" type="fixed">
    <origin rpy="0.0 0.0 0.0" xyz="0.0 0.0 0.0"/>
    <parent link="leg3_link2_p1"/>
    <child link="leg3_link2_p2"/>
  </joint>
  <joint name="leg3_link2_p2_to_p3" type="fixed">
    <origin rpy="0.0 1.5707963267948966 0.0" xyz="-0.220 0.0 0.006"/>
    <parent link="leg3_link2_p2"/>
    <child link="leg3_link2_p3"/>
  </joint>
  <link name="leg3_pusher_servo_mount">
    <visual>
      <geometry>
        <mesh filename="meshes/legs/pusher_servo_mount.stl" scale="0.001 0.001 0.001"/>
      </geometry>
      <material name="leg3_pusher_servo_mount_yellow">
        <color rgba="0.980 0.714 0.004 1.0"/>
      </material>
    </visual>
    <collision>
      <geometry>
        <mesh filename="meshes/legs/pusher_servo_mount.stl" scale="0.001 0.001 0.001"/>
      </geometry>
    </collision>
    <inertial>
      <origin rpy="0 0 0" xyz="0 0 0.00509"/>
      <mass value="0.02676"/>
      <!-- Converted from 0.059 lb to kg -->
      <inertia ixx="4.583e-06" ixy="-2.610e-08" ixz="0" iyy="1.544e-05" iyz="0" izz="1.939e-05"/>
    </inertial>
  </link>
  <joint name="leg3_pusher_servo_mount_to_link2" type="fixed">
    <origin rpy="0.0 0.0 1.5707963267948966" xyz="-0.147 0.0 0.012"/>
    <parent link="leg3_link2_p2"/>
    <child link="leg3_pusher_servo_mount"/>
  </joint>
  <link name="leg3_pusher_servo">
    <visual>
      <geometry>
        <mesh filename="meshes/non_printed/pusher_servo.stl" scale="0.001 0.001 0.001"/>
      </geometry>
      <material name="leg3_pusher_servo_blue">
        <color rgba="0.043 0.216 0.404 1.0"/>
      </material>
    </visual>
    <collision>
      <geometry>
        <mesh filename="meshes/non_printed/pusher_servo.stl" scale="0.001 0.001 0.001"/>
      </geometry>
    </collision>
    <inertial>
      <origin rpy="0 0 0" xyz="2.7e-5 0 2.02e-4"/>
      <mass value="0.2577"/>
      <!-- Converted from 0.568 lb to kg -->
      <inertia ixx="6.3523e-05" ixy="0" ixz="-1.7854e-07" iyy="1.3415e-04" iyz="0" izz="1.1411e-04"/>
    </inertial>
  </link>
  <joint name="leg3_pusher_servo_to_mount" type="fixed">
    <origin rpy="0.0 0.0 -1.5707963267948966" xyz="0.01 -0.0 0.0096"/>
    <parent link="leg3_pusher_servo_mount"/>
    <child link="leg3_pusher_servo"/>
  </joint>
  <!-- link1 -->
  <link name="servo_leg3_link1">
    <visual>
      <geometry>
        <mesh filename="meshes/non_printed/60_kg_servo.stl" scale="0.001 0.001 0.001"/>
      </geometry>
      <material name="servo_leg3_link1_blue">
        <color rgba="0.043 0.216 0.404 1.0"/>
      </material>
    </visual>
    <collision>
      <geometry>
        <mesh filename="meshes/non_printed/60_kg_servo.stl" scale="0.001 0.001 0.001"/>
      </geometry>
    </collision>
    <inertial>
      <origin rpy="0 0 0" xyz="2.7e-5 0 2.02e-4"/>
      <mass value="0.2577"/>
      <!-- Converted from 0.568 lb to kg -->
      <inertia ixx="6.3523e-05" ixy="0" ixz="-1.7854e-07" iyy="1.3415e-04" iyz="0" izz="1.1411e-04"/>
    </inertial>
  </link>
  <link name="servo_mount_leg3_link1">
    <visual>
      <geometry>
        <mesh filename="meshes/legs/servo_mount_slotted_60kg.stl" scale="0.001 0.001 0.001"/>
      </geometry>
      <material name="servo_mount_leg3_link1_blue">
        <color rgba="0.231 0.380 0.706 1.0"/>
      </material>
    </visual>
    <collision>
      <geometry>
        <mesh filename="meshes/legs/servo_mount_slotted_60kg.stl" scale="0.001 0.001 0.001"/>
      </geometry>
    </collision>
    <inertial>
      <origin rpy="0 0 0" xyz="-8.34e-7 -0.003997 0.010335"/>
      <mass value="0.0885"/>
      <!-- Converted from 0.195 lb to kg -->
      <inertia ixx="8.314e-05" ixy="4.975e-08" ixz="4.666e-09" iyy="2.774e-05" iyz="1.256e-06" izz="8.654e-05"/>
    </inertial>
  </link>
  <joint name="leg3_link1_servo_to_mount" type="fixed">
    <origin rpy="0.0 0.0 1.5707963267948966" xyz="0.0 0.0 0.0278"/>
    <parent link="servo_mount_leg3_link1"/>
    <child link="servo_leg3_link1"/>
  </joint>
  <link name="leg3_link1">
    <visual>
      <geometry>
        <mesh filename="meshes/legs/link1.stl" scale="0.001 0.001 0.001"/>
      </geometry>
      <material name="leg3_link1_blue">
        <color rgba="0.231 0.380 0.706 1.0"/>
      </material>
    </visual>
    <collision>
      <geometry>
        <mesh filename="meshes/legs/link1.stl" scale="0.001 0.001 0.001"/>
      </geometry>
    </collision>
    <inertial>
      <origin rpy="0 0 0" xyz="-0.0416 0.000229 0.00599"/>
      <mass value="0.0685"/>
      <!-- Converted from 0.151 lb to kg -->
      <inertia ixx="8.657e-05" ixy="5.807e-07" ixz="-1.833e-13" iyy="3.632e-05" iyz="1.345e-14" izz="1.147e-04"/>
    </inertial>
  </link>
  <joint name="leg3_link1_to_servo" type="fixed">
    <origin rpy="0.0 1.5707963267948966 1.5707963267948966" xyz="-0.123 -0.031 0.0065"/>
    <parent link="leg3_link1"/>
    <child link="servo_mount_leg3_link1"/>
  </joint>

  <link name="leg3_sliding_cylinder">
    <visual>
      <geometry>
        <mesh filename="meshes/legs/sliding_cylinder.stl" scale="0.001 0.001 0.001"/>
      </geometry>
      <material name="leg3_sliding_cylinder_blue">
        <color rgba="0.231 0.380 0.706 1.0"/>
      </material>
    </visual>
    <collision>
      <geometry>
        <mesh filename="meshes/legs/sliding_cylinder.stl" scale="0.001 0.001 0.001"/>
      </geometry>
    </collision>
    <inertial>
      <origin rpy="0 0 0" xyz="1.958e-9 -0.01674 2.54e-5"/>
      <mass value="0.00998"/>
      <!-- Converted from 0.022 lb to kg -->
      <inertia ixx="1.747e-06" ixy="-1.879e-10" ixz="-4.794e-09" iyy="2.903e-07" iyz="-1.288e-09" izz="1.747e-06"/>
    </inertial>
  </link>
  <link name="leg3_wheels">
    <visual>
      <geometry>
        <mesh filename="meshes/non_printed/metal_bearing.stl" scale="0.001 0.001 0.001"/>
      </geometry>
      <material name="leg3_wheels_silver">
        <color rgba="0.9176 0.9176 0.9176 1.0"/>
      </material>
    </visual>
    <collision>
      <geometry>
        <mesh filename="meshes/non_printed/metal_bearing.stl" scale="0.001 0.001 0.001"/>
      </geometry>
    </collision>
    <inertial>
      <origin rpy="0 0 0" xyz="0 0.01198 0"/>
      <mass value="0.0957"/>
      <!-- Converted from 0.211 lb to kg -->
      <inertia ixx="1.629e-05" ixy="0" ixz="0" iyy="1.979e-05" iyz="0" izz="1.629e-05"/>
    </inertial>
  </link>

  <joint name="leg3_cylinder_to_bound" type="prismatic">
    <origin rpy="0.0 0.0 -1.5707963267948966" xyz="-0.205 -0.0 0.039"/>
    <parent link="leg3_link2_p2"/>
    <child link="leg3_sliding_cylinder"/>
    <axis xyz="0.0 1.0 0.0"/>
    <limit effort="1000" lower="-0.2" upper="0.2" velocity="1.0"/>
  </joint>
  <joint name="leg3_cylinder_to_wheels" type="continuous">
    <origin rpy="0 0.0 3.141592653589793" xyz="-0.0 -0.0405 -0.0"/>
    <parent link="leg3_sliding_cylinder"/>
    <child link="leg3_wheels"/>
    <axis xyz="0.0 1.0 0.0"/>
  </joint>
  <!-- joining link1 and link2 -->
  <link name="leg3_servo_horn">
    <visual>
      <geometry>
        <mesh filename="meshes/non_printed/18T_servo_horn.stl" scale="0.001 0.001 0.001"/>
      </geometry>
      <material name="leg3_servo_horn_purple">
        <color rgba="0.490 0.086 0.557 1.0"/>
      </material>
    </visual>
    <collision>
      <geometry>
        <mesh filename="meshes/non_printed/18T_servo_horn.stl" scale="0.001 0.001 0.001"/>
      </geometry>
    </collision>
    <inertial>
      <origin rpy="0 0 0" xyz="0 -0.0105 0.002"/>
      <mass value="0.0059"/>
      <!-- Converted from 0.013 lb to kg -->
      <inertia ixx="8.7107e-07" ixy="0" ixz="0" iyy="1.0047e-07" iyz="0" izz="8.7107e-07"/>
    </inertial>
  </link>
  <joint name="leg3_link1_to_joint" type="revolute">
    <origin rpy="0 0 1.2915436467948966" xyz="0.019 -0.0 0.0245"/>
    <parent link="servo_leg3_link1"/>
    <child link="leg3_servo_horn"/>
    <axis xyz="0 0 1"/>
    <limit effort="1000" lower="-2.356" upper="2.356" velocity="1"/>
  </joint>
  <joint name="leg3_joint_to_link2" type="fixed">
    <origin rpy="1.5707963267948966 3.141592653589793 -1.5707963267948966" xyz="0.005 0.005 -0.028"/>
    <parent link="leg3_servo_horn"/>
    <child link="leg3_link2_p1"/>
  </joint>
  <!-- joining to the base -->
  <joint name="leg3_link1_to_frame" type="fixed">
    <origin rpy="1.5707963267948966 3.141592653589793 -1.5707963267948966" xyz="0.005 0.005 -0.028"/>
    <parent link="third_servo_horn"/>
    <child link="leg3_link1"/>
  </joint>
</robot>
